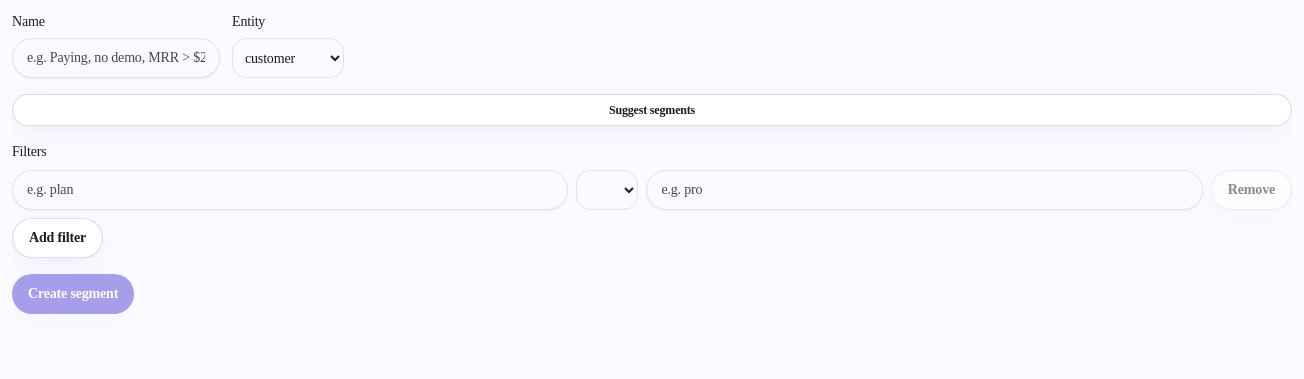
Test: CreateSegmentForm › adds and removes filter rows
Expected: the number of fields named "Field" is 1, [12,170,568,210]
Click the button "Add filter" at (58, 238), box [12,218,103,258]
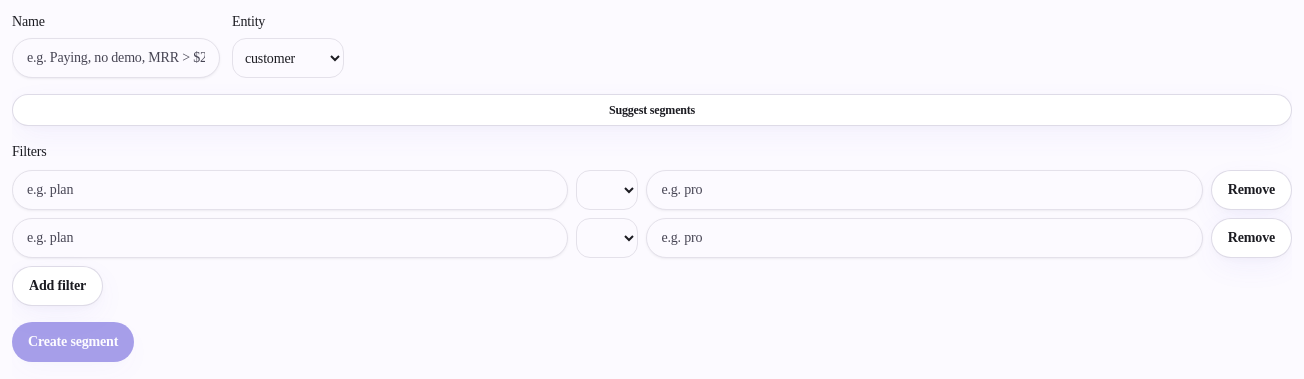
Result: the number of fields named "Field" is 2 at [12,170,568,210]; [12,218,568,258]
Click the 1st button "Remove" at (1251, 190), box [1211,170,1292,210]
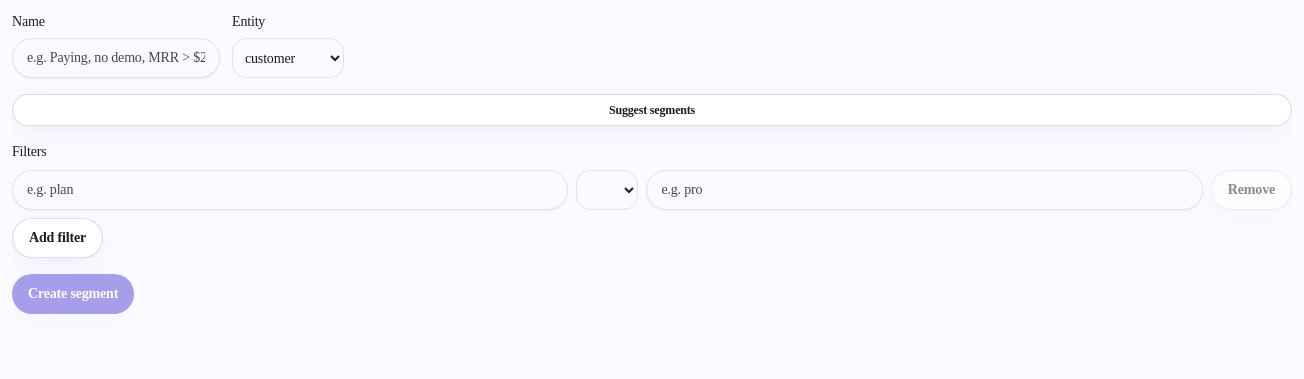
Result: the number of fields named "Field" is 1 at [12,170,568,210]
Result: the button "Remove" is disabled at [1211,170,1292,210]
